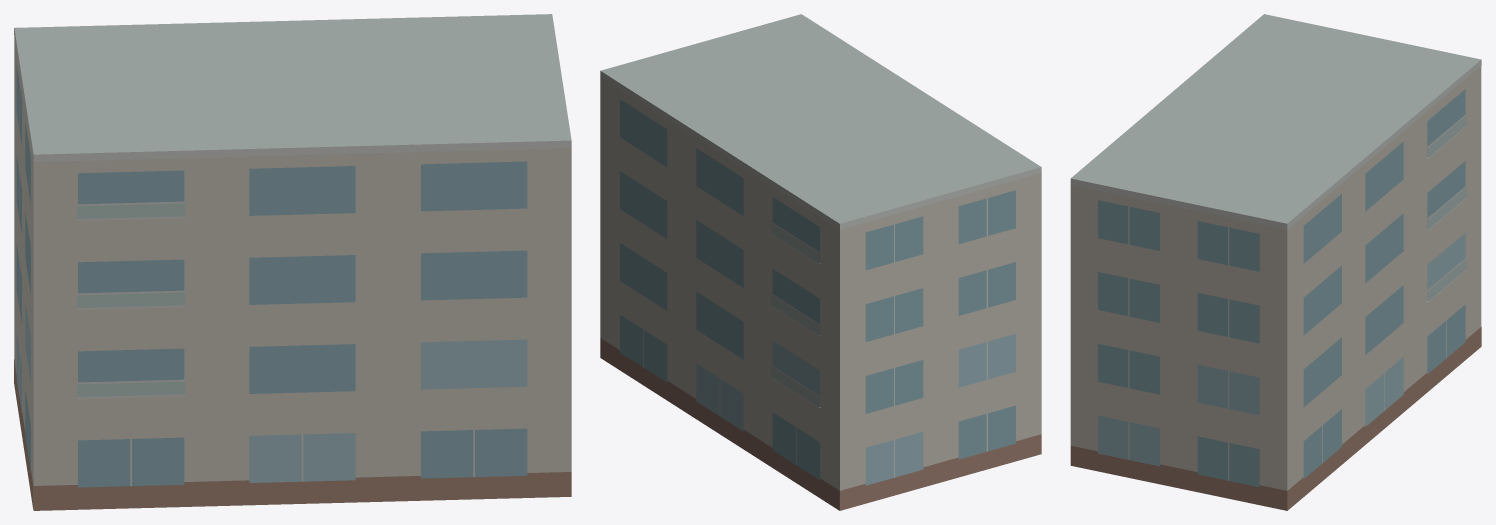
File: survey-upis-32842923.glb
The picture shows the model from 3 angles, left to right: view 1: azimuth 30°, elevation 25°; view 2: azimuth 150°, elevation 25°; view 3: azimuth 270°, elevation 25°; orthographic projection. The views are drawn at different scales.
Visible parts, largest first — view 1: survey-upis-32842923.tmp; view 2: survey-upis-32842923.tmp; view 3: survey-upis-32842923.tmp.
Boxes of the visible parts, x1,y1,x2,y2 form: survey-upis-32842923.tmp: (14, 14, 571, 510); survey-upis-32842923.tmp: (600, 14, 1041, 510); survey-upis-32842923.tmp: (1070, 14, 1481, 510).
Size of the model in its own units: 18.18 by 11.6 by 15.05.
